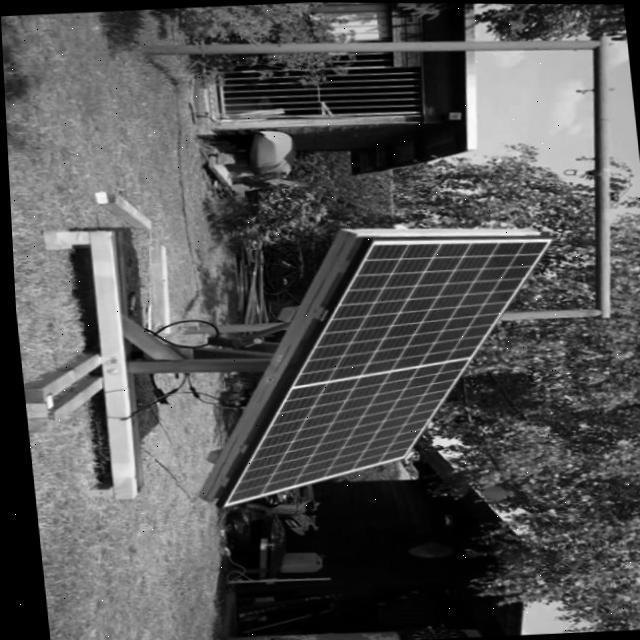Normal Solar Panel: (194, 227, 570, 508)
